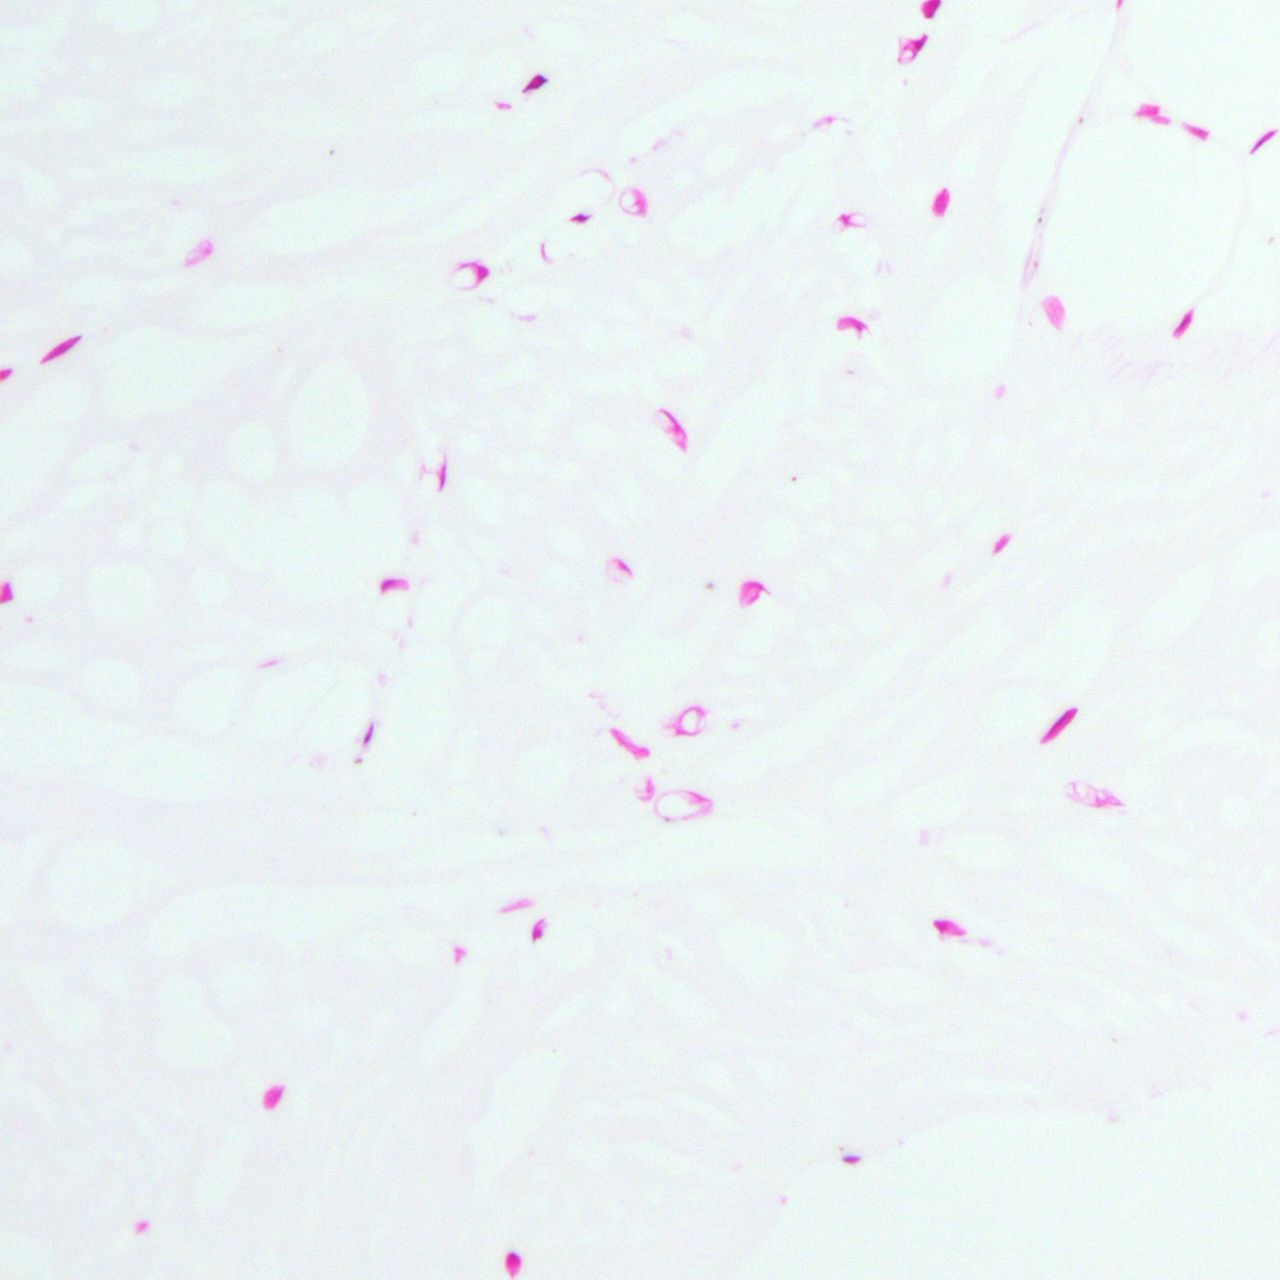nucleus-FG: (604, 716, 654, 766), (1038, 701, 1081, 749), (35, 329, 85, 367), (894, 26, 930, 69), (929, 912, 969, 942), (256, 1077, 288, 1113), (1169, 305, 1199, 341), (519, 71, 548, 99), (929, 186, 953, 218), (740, 580, 763, 605), (837, 315, 868, 331), (504, 1251, 521, 1279), (380, 577, 408, 593), (532, 917, 545, 940), (362, 722, 375, 744), (570, 213, 589, 222)
